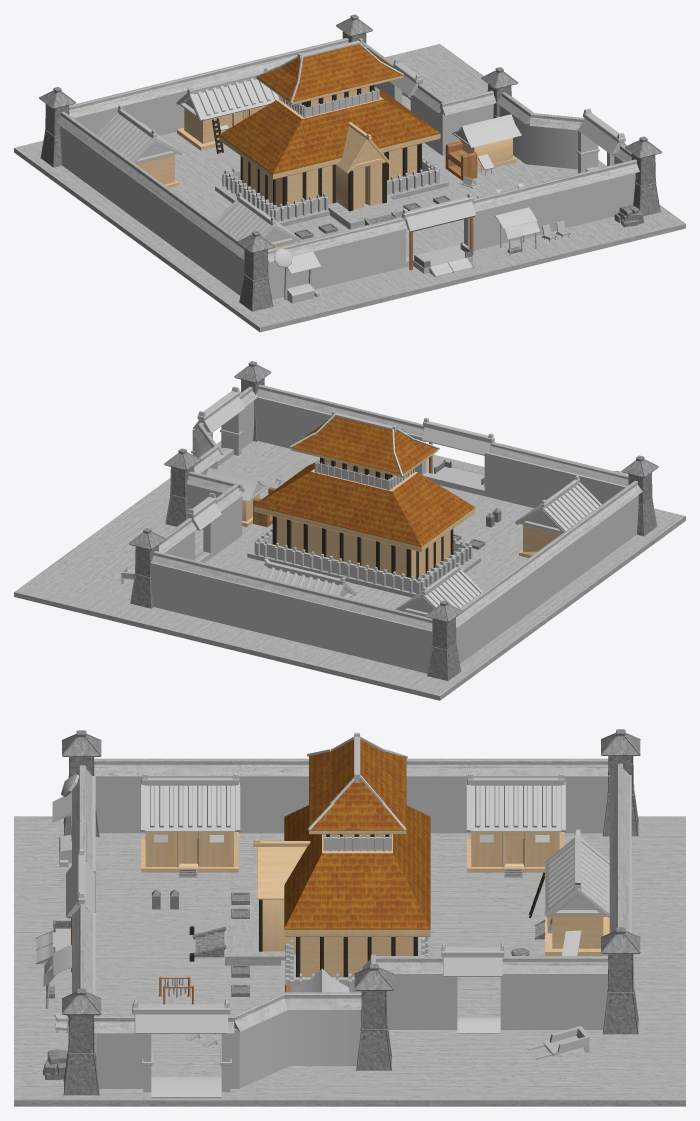
The model's file is siheyuan.fbx.
The picture shows the model from 3 angles, top to bottom: view 1: azimuth 30°, elevation 25°; view 2: azimuth 150°, elevation 25°; view 3: azimuth 270°, elevation 25°; orthographic projection. The views are drawn at different scales.
Visible parts, largest first — view 1: h1; view 2: h1; view 3: h1.
Part boxes in pixels (left/top/right/bottom): h1: left=14, top=14, right=685, bottom=332; h1: left=14, top=361, right=685, bottom=700; h1: left=14, top=729, right=685, bottom=1106.
Bounding box in the file's own units: 10.21 × 3.35 × 10.21.
